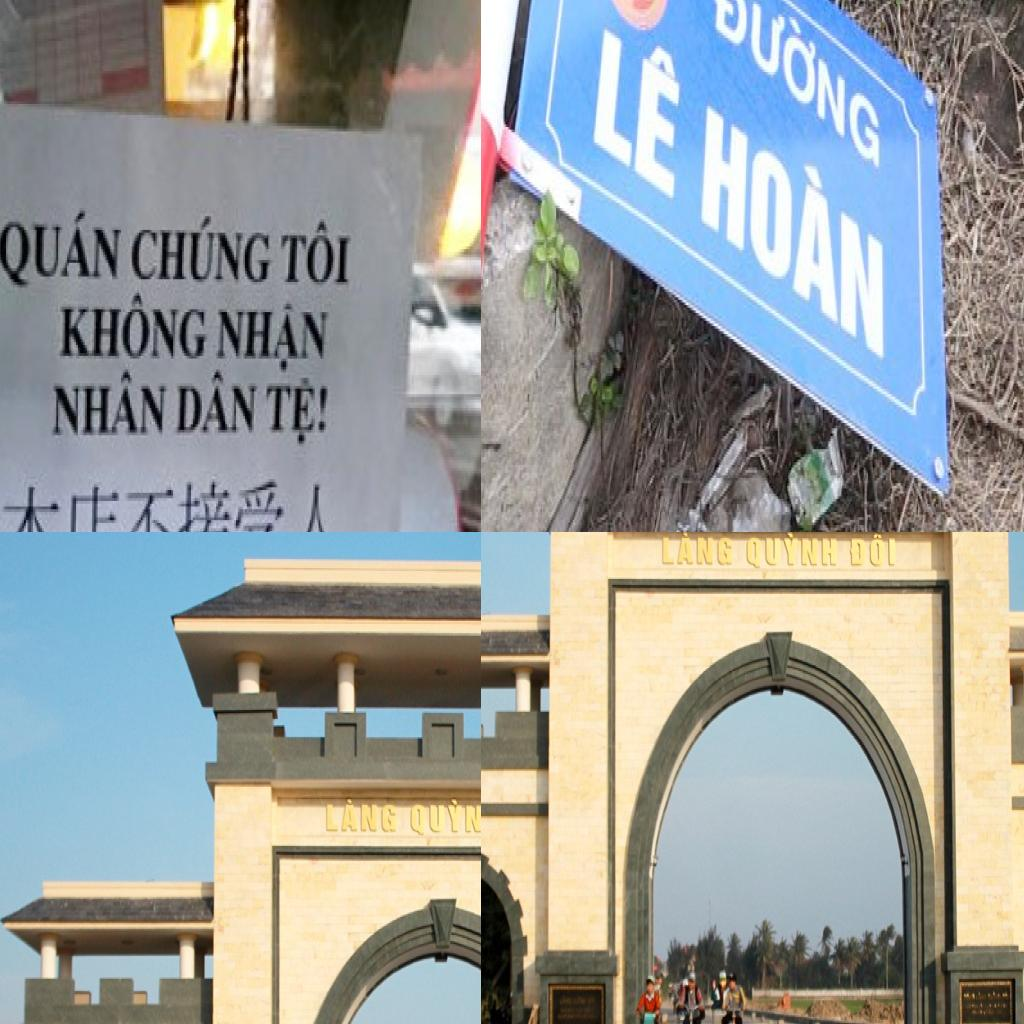text: (710, 0, 883, 182), (591, 2, 687, 208), (0, 197, 126, 295), (128, 211, 276, 290), (211, 296, 335, 380), (58, 296, 209, 364), (49, 367, 171, 443), (173, 370, 263, 444), (279, 216, 353, 290), (265, 375, 333, 455), (744, 532, 841, 571), (323, 794, 399, 836), (408, 798, 481, 838), (659, 532, 735, 568), (848, 532, 899, 567)
